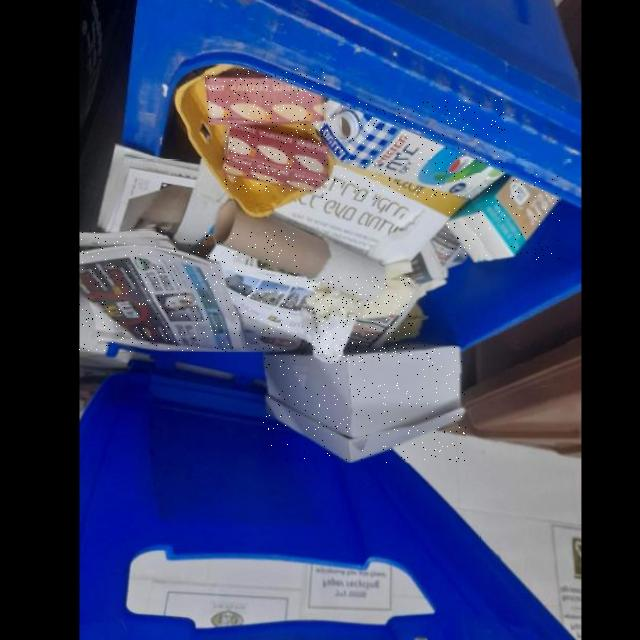paper: (80, 230, 297, 351), (263, 343, 466, 463), (313, 99, 506, 200), (215, 200, 386, 300), (446, 173, 560, 263), (307, 276, 416, 362), (223, 125, 328, 192), (206, 68, 325, 125)
